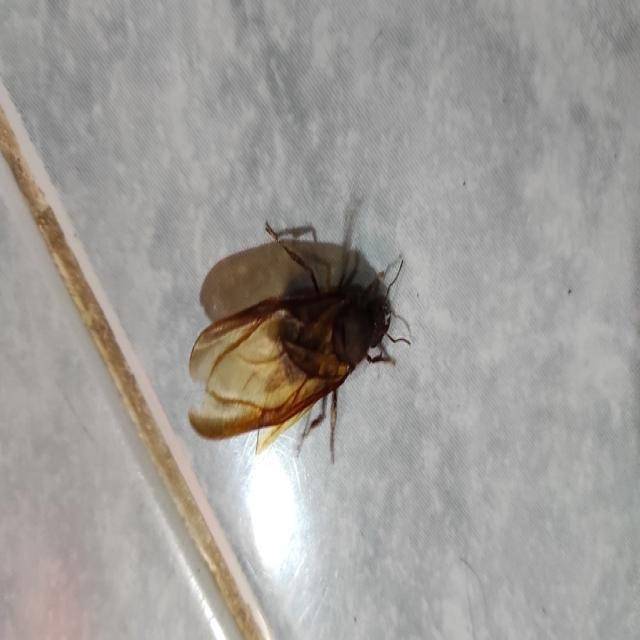Alive-Female-Alate: (186, 219, 412, 466)
